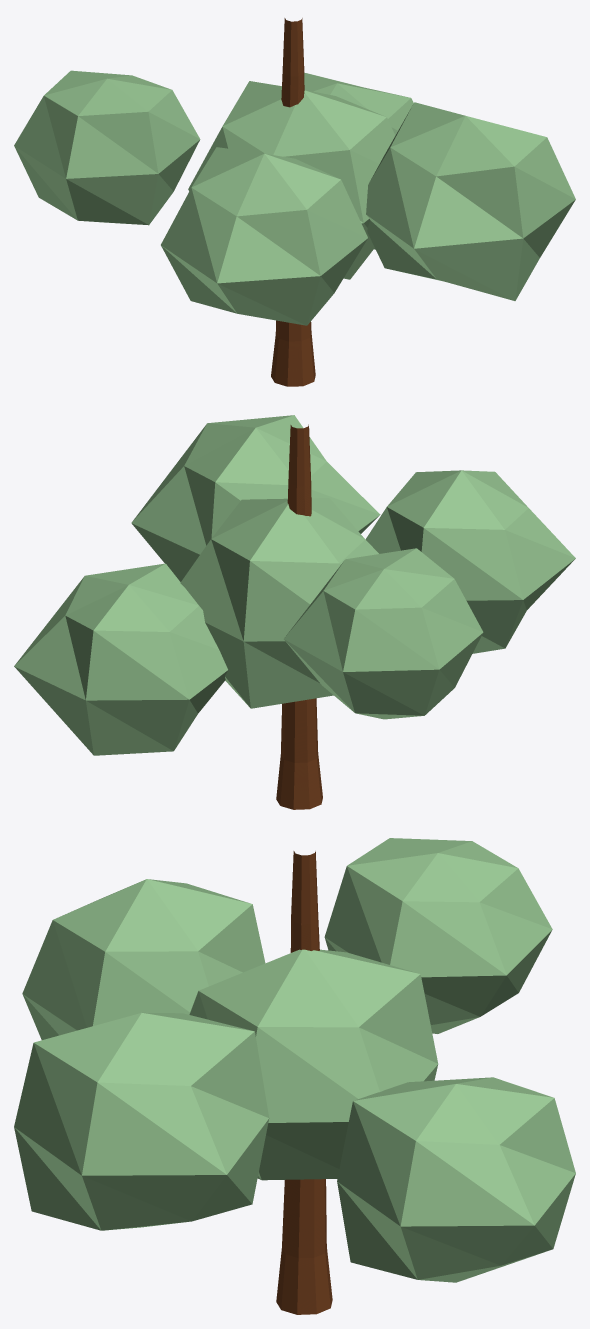
File: nature_oak_young.glb
3 views of the same model, one above another, from view 1: azimuth 30°, elevation 25°; view 2: azimuth 150°, elevation 25°; view 3: azimuth 270°, elevation 25° (orthographic). The views are drawn at different scales.
Visible parts, largest first — view 1: world; view 2: world; view 3: world.
Boxes of the visible parts, <box> form: world: <box>14,18,575,386</box>; world: <box>14,415,575,809</box>; world: <box>14,838,575,1314</box>.
Bounding box in the file's own units: 2 × 1.72 × 1.93.
2 materials, 1 textured.
